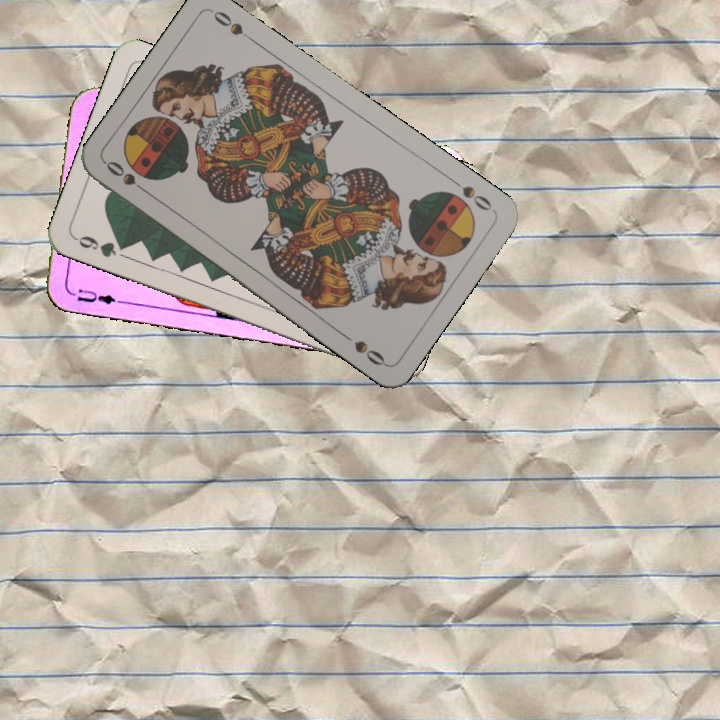EU: (63, 277, 122, 307)
G9: (70, 231, 131, 260)
SO: (101, 156, 153, 198), (446, 174, 495, 214)
